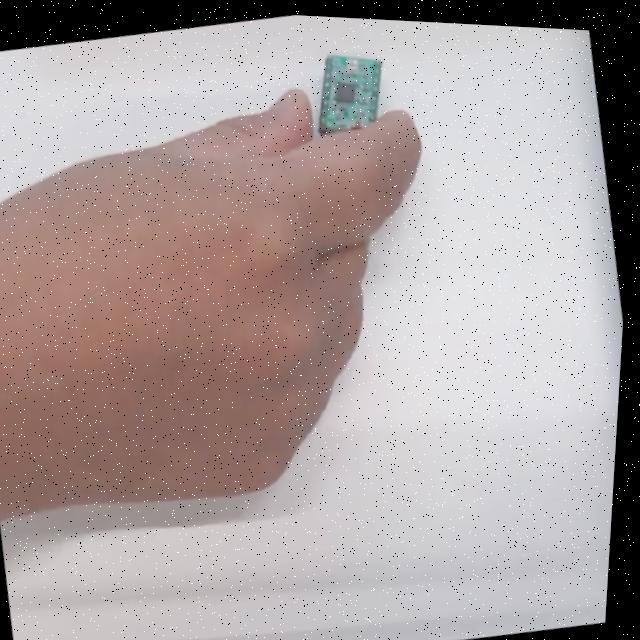Chip: (301, 48, 397, 145)
